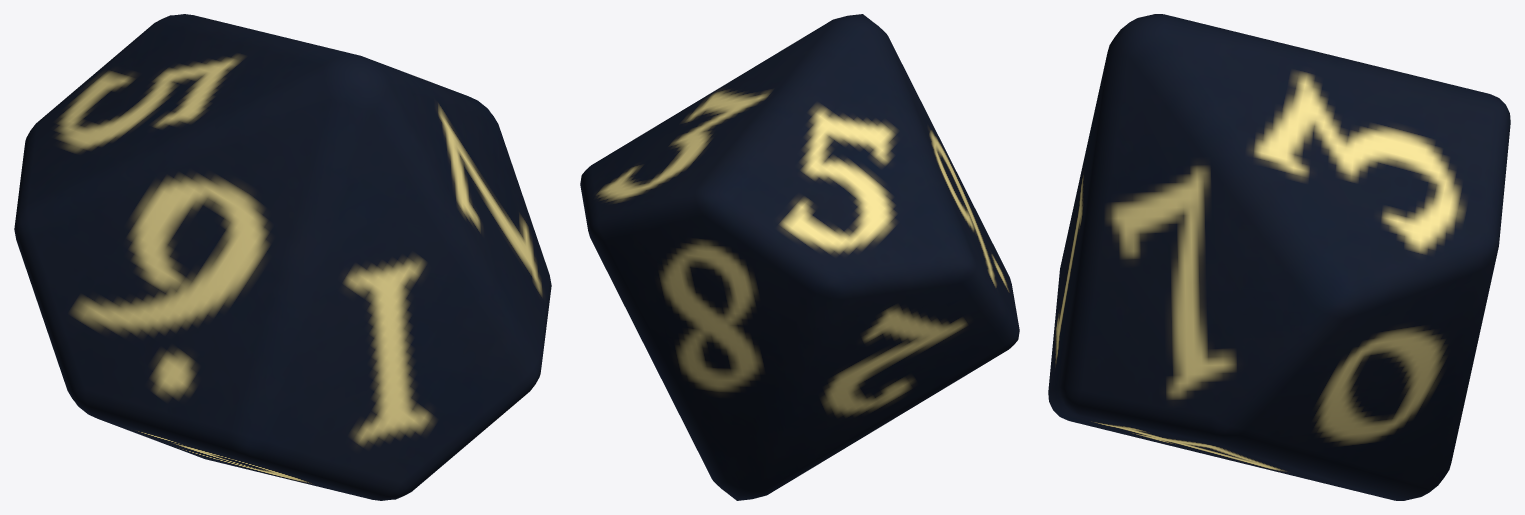
The picture shows the model from 3 angles, left to right: view 1: azimuth 30°, elevation 25°; view 2: azimuth 150°, elevation 25°; view 3: azimuth 270°, elevation 25°; orthographic projection. The views are drawn at different scales.
Visible parts, largest first — view 1: D10_LP; view 2: D10_LP; view 3: D10_LP.
Boxes of the visible parts, bbox=[...] form: D10_LP: bbox=[14, 14, 551, 500]; D10_LP: bbox=[580, 14, 1019, 500]; D10_LP: bbox=[1048, 14, 1510, 500].
Size of the model in its own units: 0.012 by 0.0118 by 0.0103.
Materials: 1 (1 with a texture image).
